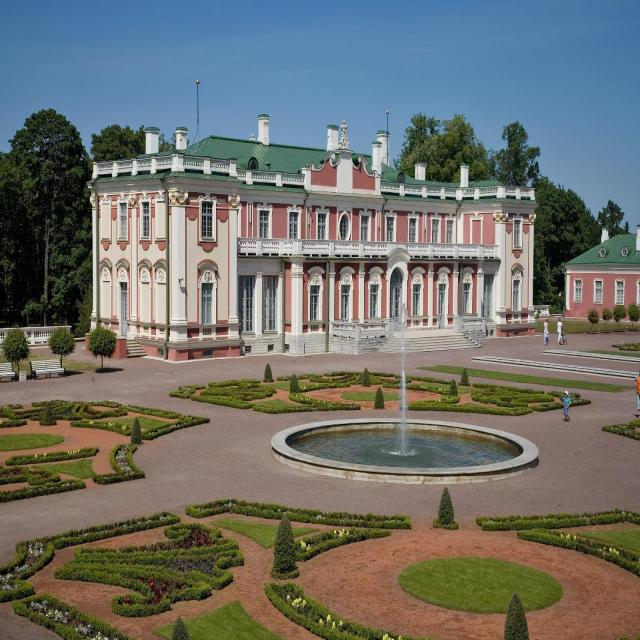body: (633, 371, 640, 418), (562, 390, 572, 422), (556, 316, 564, 346), (543, 318, 549, 346), (545, 331, 549, 346)
